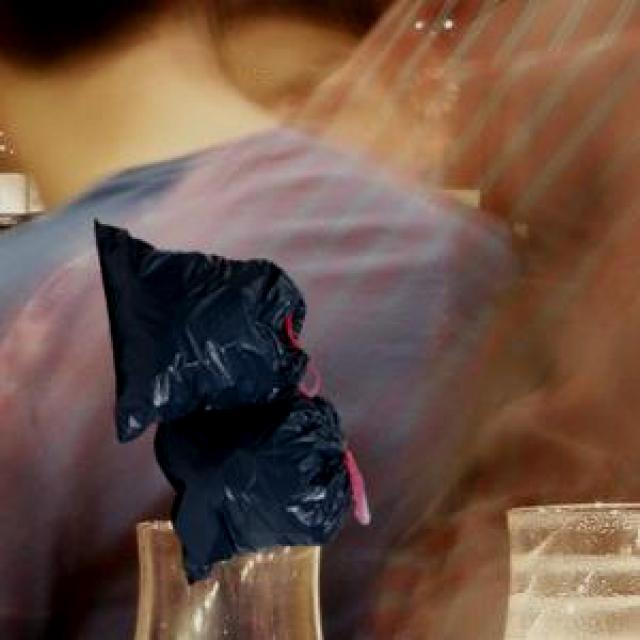Trashbag: (85, 213, 307, 450), (148, 389, 366, 593)
